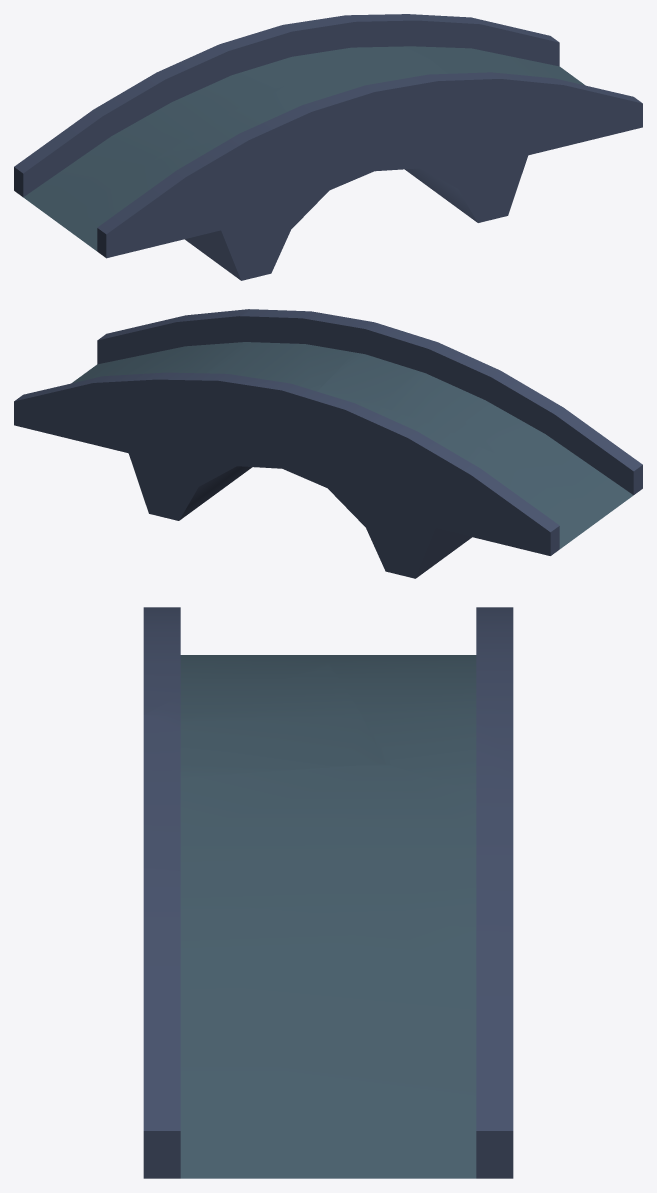
The model's file is Farm_Bridge_01_D.fbx.
The picture shows the model from 3 angles, top to bottom: view 1: azimuth 30°, elevation 25°; view 2: azimuth 150°, elevation 25°; view 3: azimuth 270°, elevation 25°; orthographic projection. The views are drawn at different scales.
Visible parts, largest first — view 1: Bridge_D; view 2: Bridge_D; view 3: Bridge_D.
Boxes of the visible parts, x1,y1,x2,y2 form: Bridge_D: (14,14,642,280); Bridge_D: (14,309,642,578); Bridge_D: (143,607,513,1178).
Bounding box in the file's own units: 1341 × 374 × 400.
